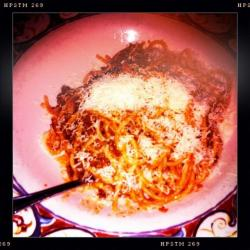bolonese_pasta: (46, 34, 241, 209)
